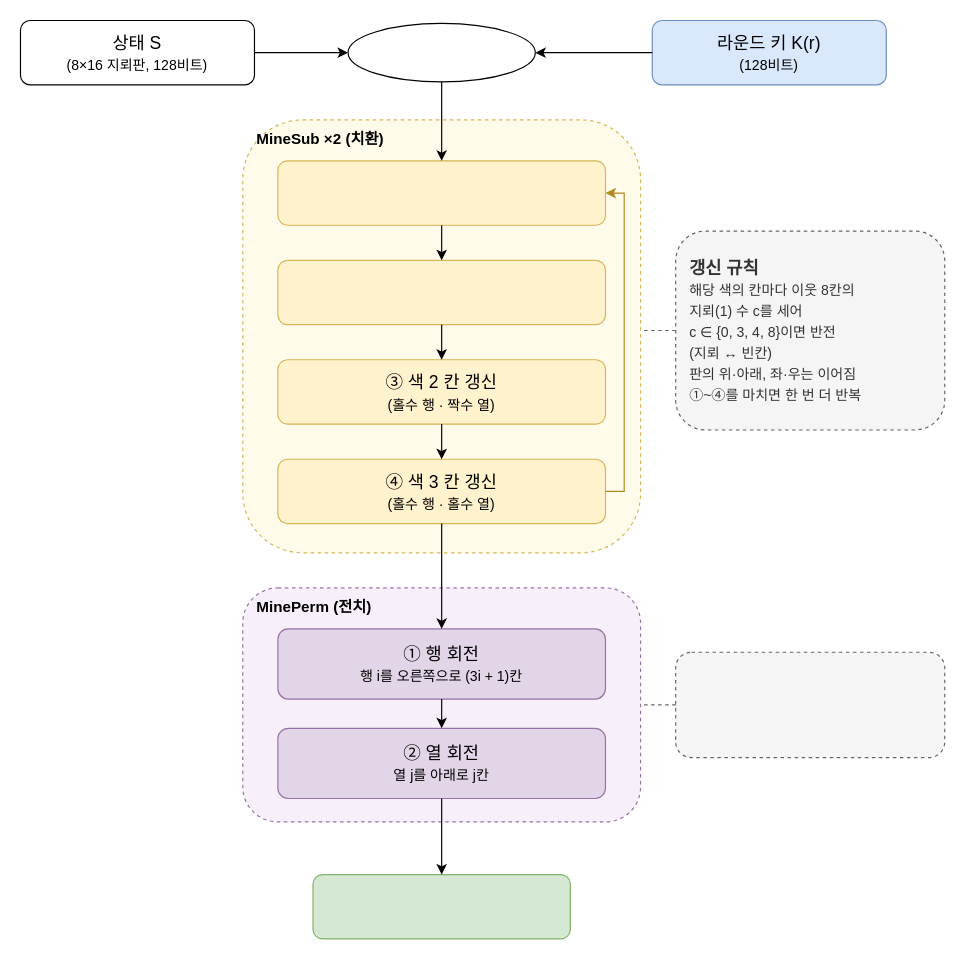
Image size: 965x959. Some labels were removed from this diagram. The shapes that lost their labels are listed below. From the top down, each one's centre as x and y in pixels, then its label:
(x=441, y=52): XOR 연산 S ⊕ K(r)
(x=441, y=192): ① 색 0 칸 갱신 (짝수 행 · 짝수 열)
(x=441, y=292): ② 색 1 칸 갱신 (짝수 행 · 홀수 열)
(x=810, y=704): 전치 성질 128칸이 1:1로 대응하는 고정 전치 이웃했던 비트를 판 전체로 흩뜨림
(x=441, y=906): 다음 라운드 상태 S'
